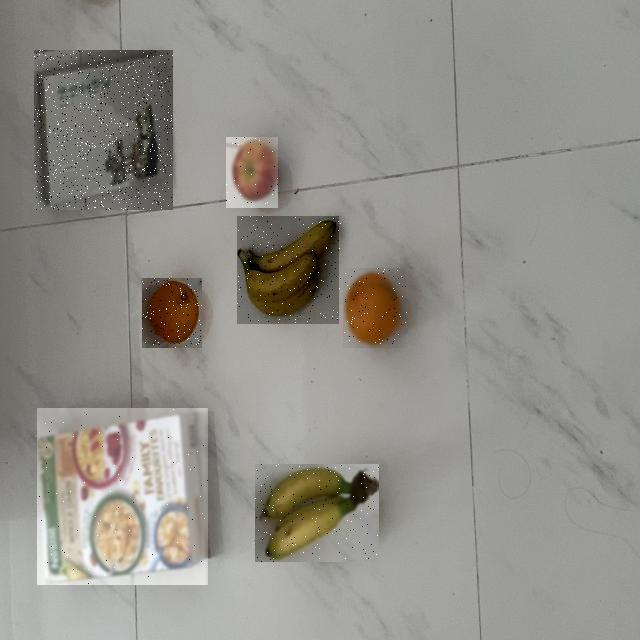Apple: (227, 137, 279, 208)
Banana: (255, 465, 379, 563), (238, 216, 342, 324)
Book: (34, 50, 173, 210)
Cereal: (38, 408, 210, 585)
Orange: (344, 268, 408, 348), (142, 278, 202, 348)
